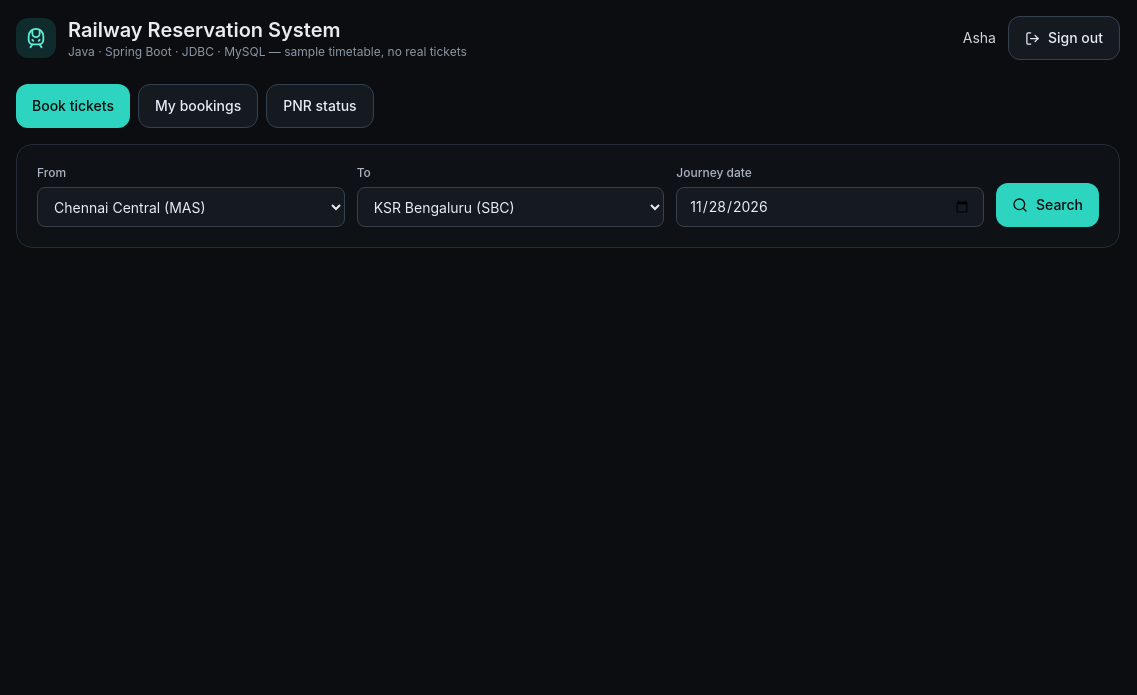
Test: sends the bearer token and passenger list when booking
The image size is (1137, 695).
Expected: the button "Sign out" is shown, [1008, 16, 1120, 60]
Click the button "Search" at (1048, 205), box [996, 183, 1099, 227]
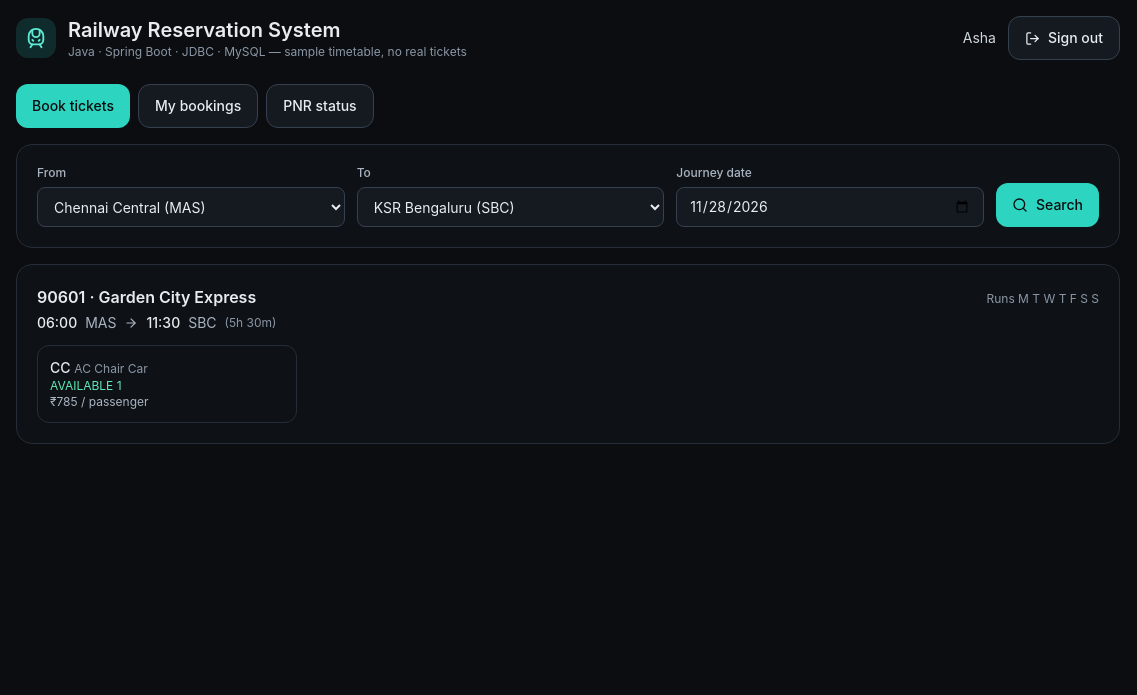
Click the button "CC AC Chair Car AVAILABLE 1 ₹785 / passenger" at (167, 384), box [37, 345, 296, 423]
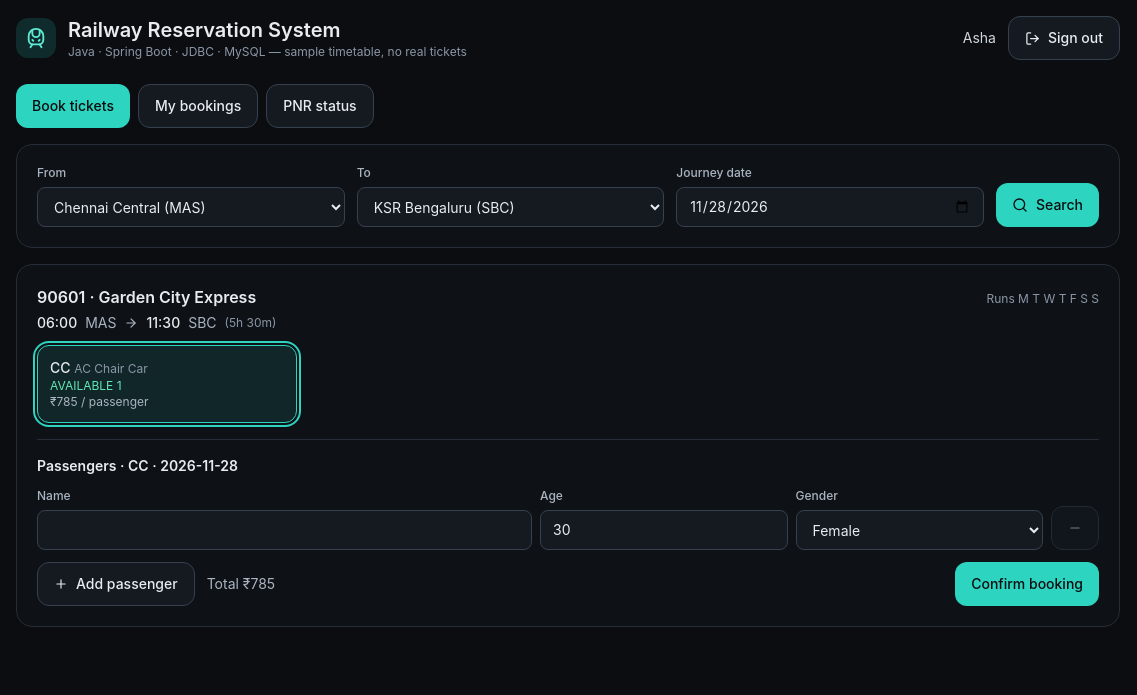
Type "Asha" into the field labelled "Name" at (284, 530), box [37, 510, 532, 550]
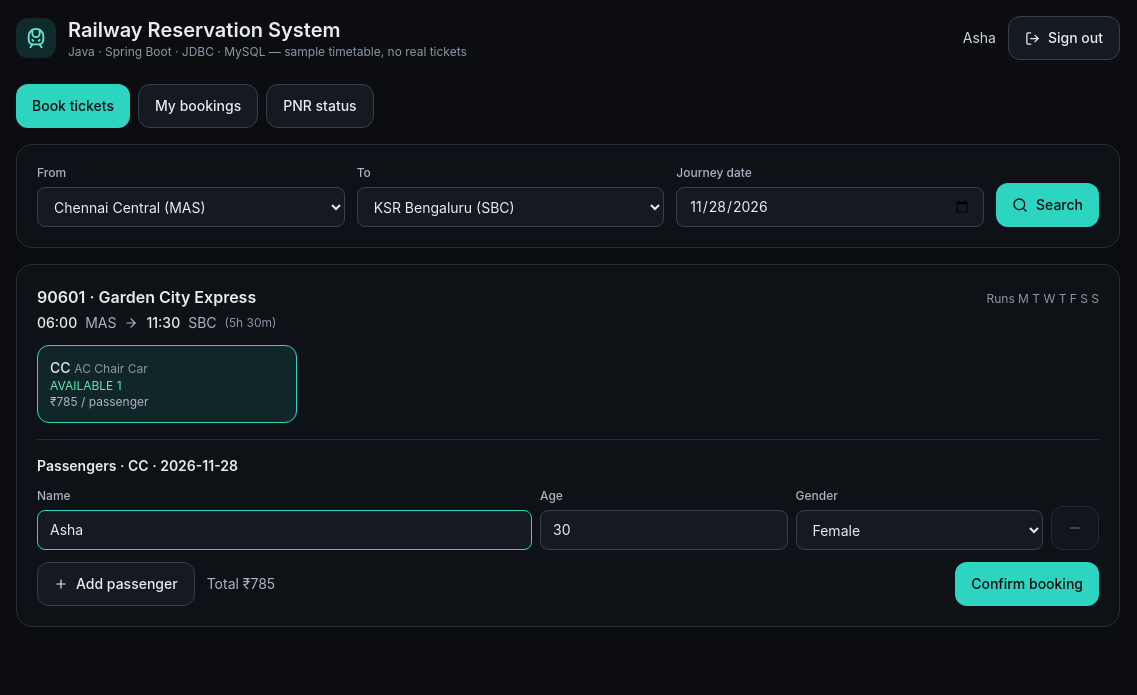
Click the button "Confirm booking" at (1027, 584), box [955, 562, 1099, 606]
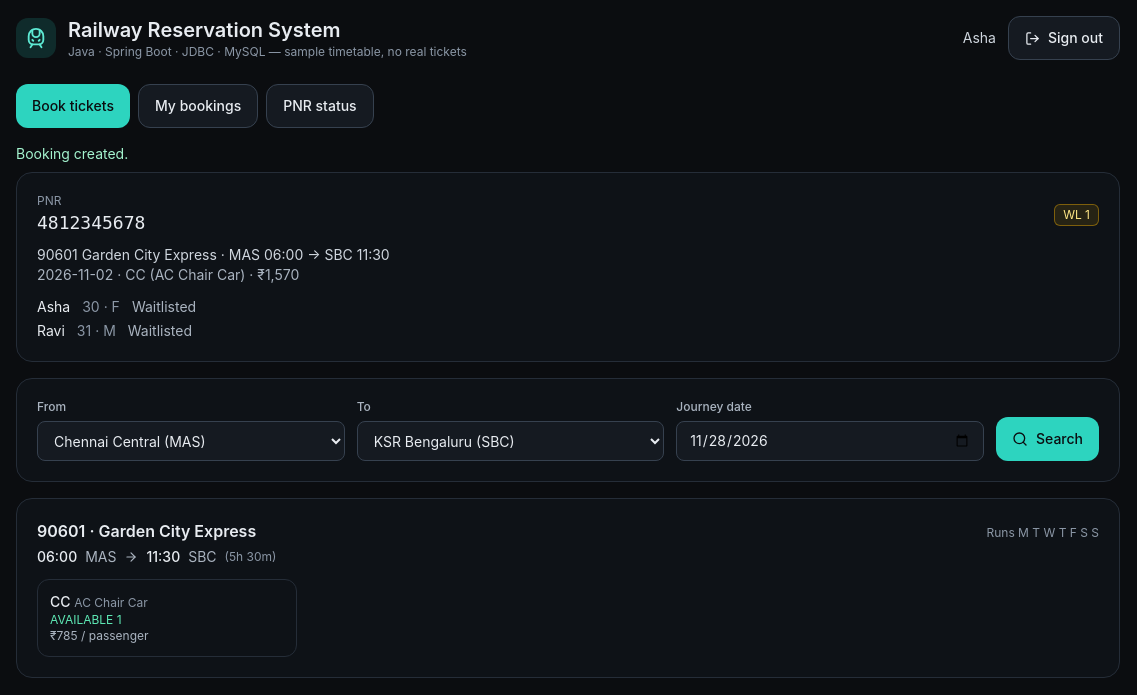
Expected: the text "WL 1" is shown, [1054, 204, 1099, 226]
